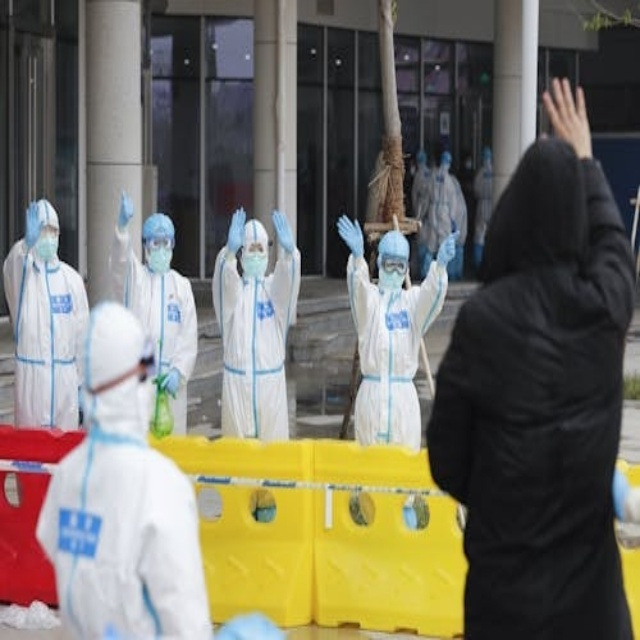Gafas: (145, 233, 177, 250), (379, 256, 410, 271)
Guantes: (223, 206, 253, 246), (269, 206, 296, 248), (22, 198, 47, 242), (436, 223, 462, 265), (335, 208, 362, 248), (159, 365, 186, 396), (116, 185, 136, 225)
Mascara: (146, 250, 173, 273), (36, 234, 58, 261), (241, 256, 270, 275), (379, 271, 404, 292)
Sin_guantes: (541, 78, 592, 160)
